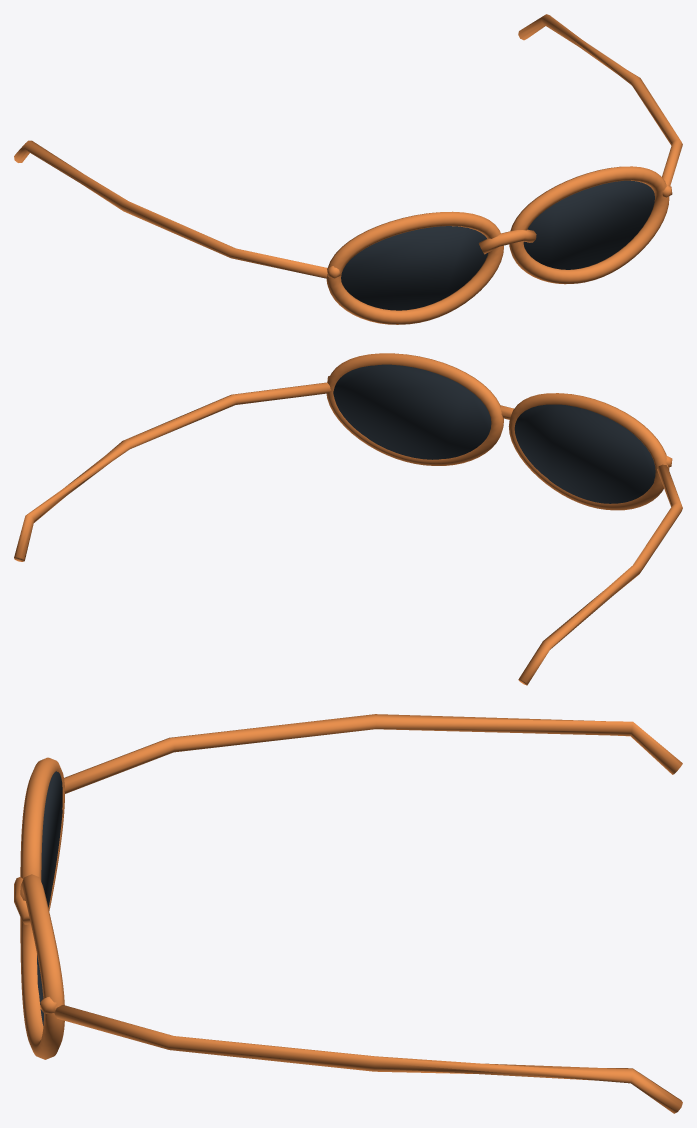
Rendered from 12-neon-runner.glb.
3 renders of one model, top to bottom at view 1: azimuth 30°, elevation 25°; view 2: azimuth 150°, elevation 25°; view 3: azimuth 270°, elevation 25°, orthographic. The views are drawn at different scales.
Parts seen in each view (by area): view 1: Glasses12_Lens-12, Glasses12_Lens14, Glasses12_Rim-11, Glasses12_Rim13, Glasses12_Temple-16, Glasses12_Temple18, Glasses12_Bridge5; view 2: Glasses12_Lens14, Glasses12_Lens-12, Glasses12_Rim13, Glasses12_Temple18, Glasses12_Rim-11, Glasses12_Temple-16; view 3: Glasses12_Temple-16, Glasses12_Temple18, Glasses12_Rim13, Glasses12_Rim-11, Glasses12_Lens-12.
Boxes of the visible parts, box(x1,y1,x2,y2) form: Glasses12_Lens-12: box(341, 226, 488, 310); Glasses12_Lens14: box(523, 180, 654, 269); Glasses12_Rim-11: box(326, 211, 503, 324); Glasses12_Rim13: box(509, 166, 669, 284); Glasses12_Temple-16: box(14, 140, 327, 278); Glasses12_Temple18: box(518, 14, 682, 185); Glasses12_Bridge5: box(479, 229, 536, 254); Glasses12_Lens14: box(333, 364, 491, 459); Glasses12_Lens-12: box(514, 404, 655, 503); Glasses12_Rim13: box(326, 353, 503, 465); Glasses12_Temple18: box(14, 382, 331, 561); Glasses12_Rim-11: box(508, 393, 669, 510); Glasses12_Temple-16: box(518, 464, 682, 685); Glasses12_Temple-16: box(64, 714, 682, 793); Glasses12_Temple18: box(54, 1005, 682, 1113); Glasses12_Rim13: box(20, 874, 64, 1059); Glasses12_Rim-11: box(20, 757, 64, 910); Glasses12_Lens-12: box(41, 771, 62, 907).
Bounding box in the file's own units: 0.6359 × 0.124 × 0.5087.
